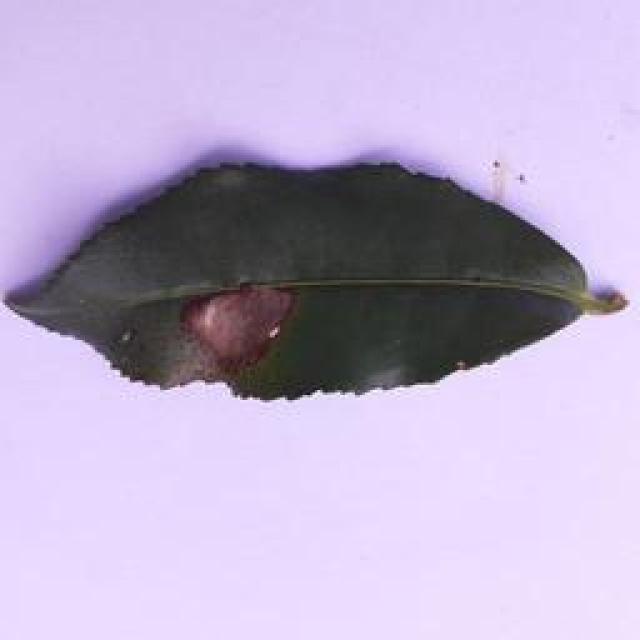Gray Blight: (2, 158, 636, 404)
